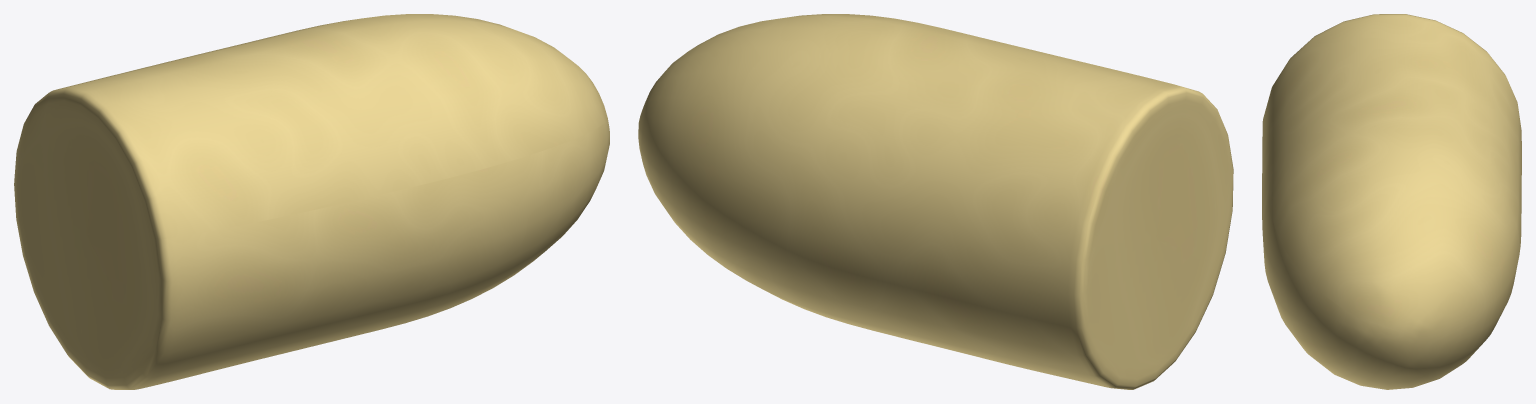
The model's file is 9mm-bullet.FBX.
The picture shows the model from 3 angles, left to right: view 1: azimuth 30°, elevation 25°; view 2: azimuth 150°, elevation 25°; view 3: azimuth 270°, elevation 25°; orthographic projection. The views are drawn at different scales.
Parts seen in each view (by area): view 1: 9mm_long_bullet; view 2: 9mm_long_bullet; view 3: 9mm_long_bullet.
Part boxes in pixels (x1,y1,x2,y2): 9mm_long_bullet: (14,14,609,389); 9mm_long_bullet: (638,14,1233,389); 9mm_long_bullet: (1262,14,1521,389).
Size of the model in its own units: 0.00767 by 0.00406 by 0.00406.
1 material, 1 textured.
